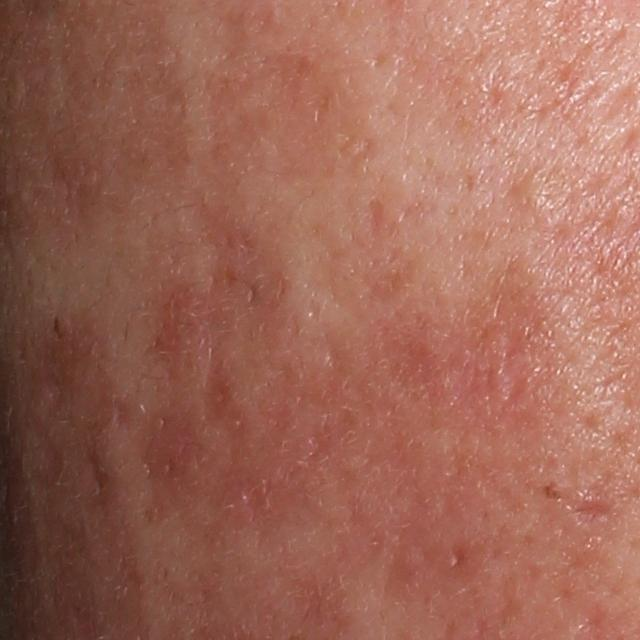atrophic_scar: (177, 191, 282, 432), (297, 209, 348, 311), (587, 70, 636, 132), (570, 496, 628, 530), (364, 190, 385, 245)
comedo: (505, 170, 548, 208)
